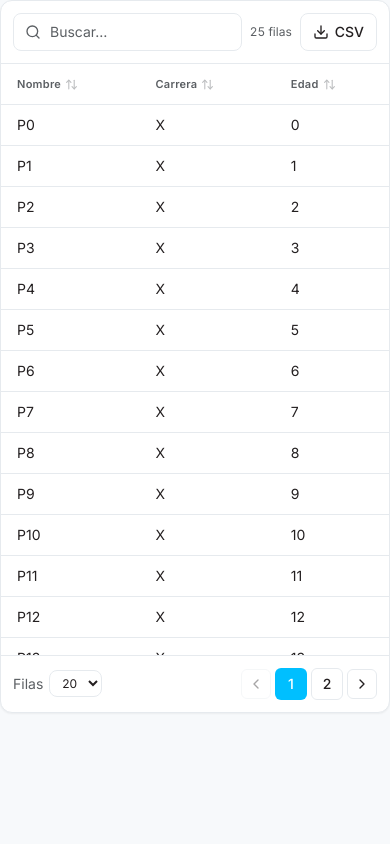
Test: DataTable › pagina cuando hay más filas que el tamaño de página
Expected: the button named "Siguiente" is shown, x1=347 y1=669 x2=377 y2=699
Expected: the text "P0" is shown, x1=1 y1=104 x2=139 y2=146
What coordinates should you click on to do the following:
click the button "2"
I would click on:
 (327, 684)
Its box is x1=311 y1=668 x2=343 y2=700.
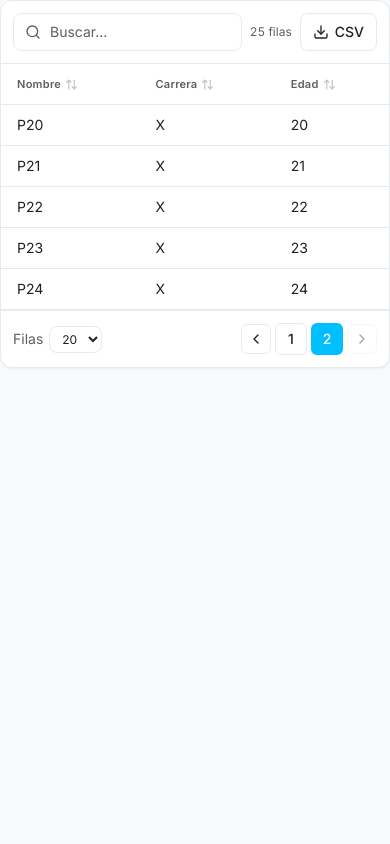
Result: the text "P24" is shown at x1=1 y1=268 x2=139 y2=310
Result: the text "P0" is gone
